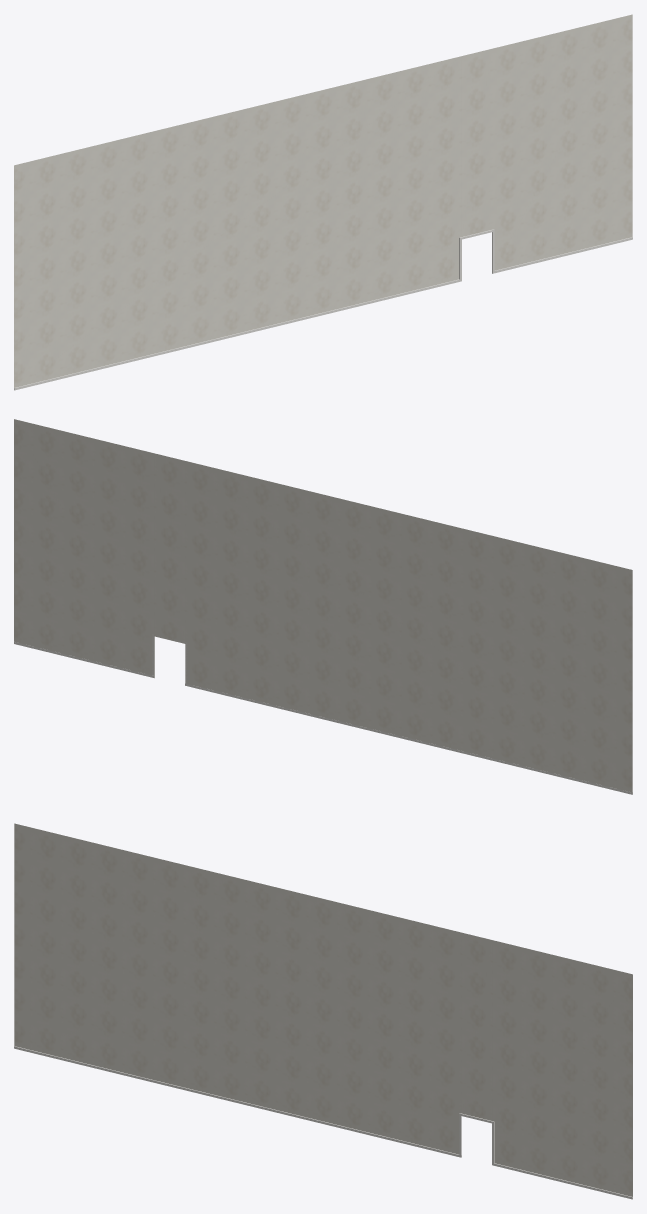
3 renders of one model, top to bottom at view 1: azimuth 30°, elevation 25°; view 2: azimuth 150°, elevation 25°; view 3: azimuth 330°, elevation 25°, orthographic.
Parts seen in each view (by area): view 1: jx_wm_40_b347cf8f; view 2: jx_wm_40_b347cf8f; view 3: jx_wm_40_b347cf8f.
Part boxes in pixels (x1,y1,x2,y2): jx_wm_40_b347cf8f: (14, 14, 632, 390); jx_wm_40_b347cf8f: (14, 419, 632, 794); jx_wm_40_b347cf8f: (14, 823, 632, 1199).
Bounding box in the file's own units: 40.3 × 14 × 0.05.
Materials: 2 (2 with a texture image).
